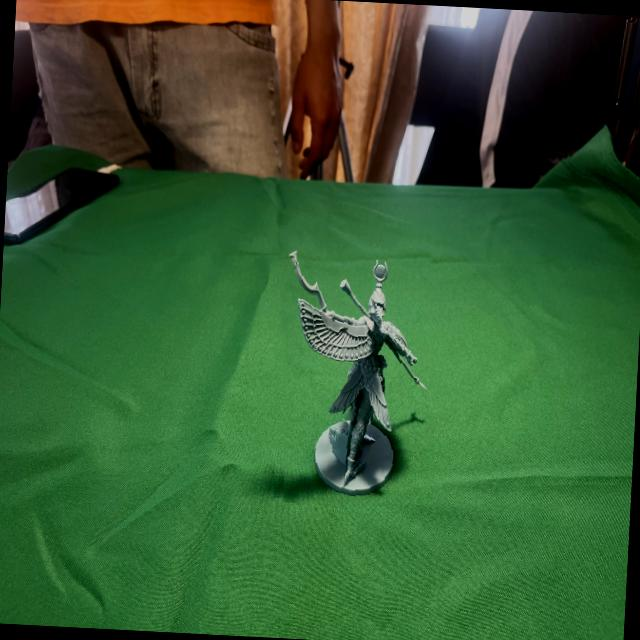isis: (269, 218, 446, 508)
